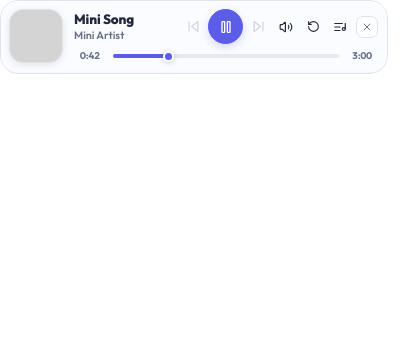
MiniPlayerApp › does not restore an initial queue snapshot after a live clear event
Click the button named "打开播放队列".
click(340, 26)  # box [329,16,351,38]
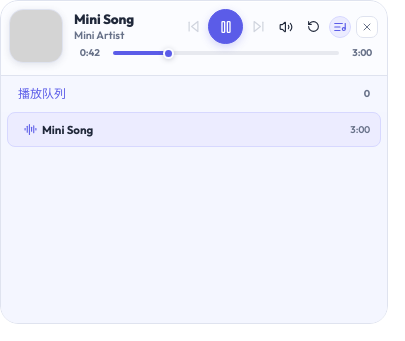
Now the text "0" is shown, box [364,87,370,101]
